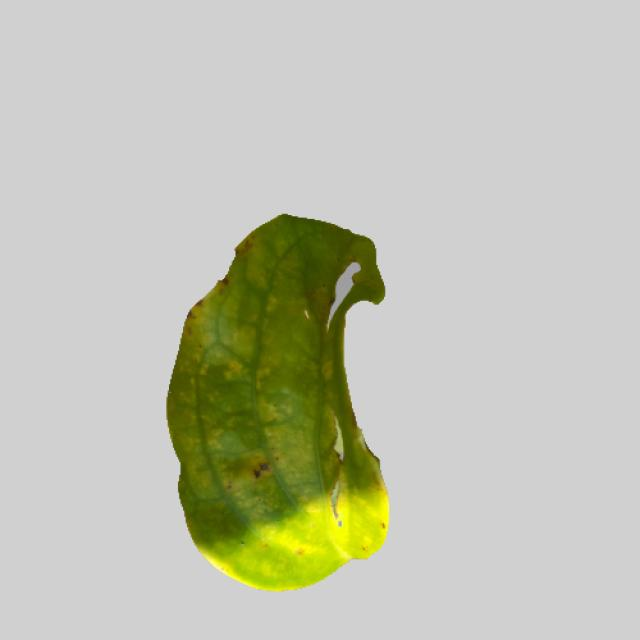yellow-mottle-virus: (154, 215, 393, 591)
